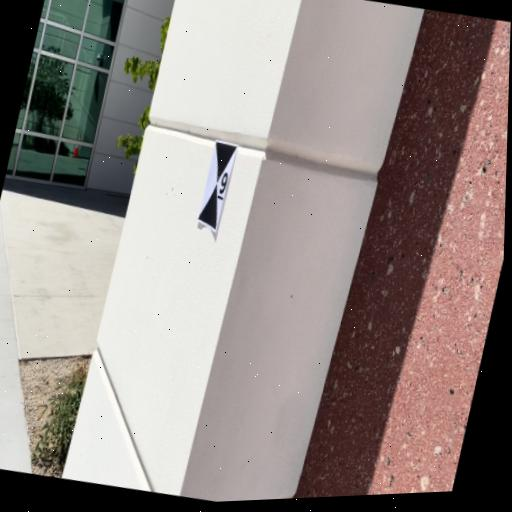target9: (198, 140, 238, 232)
